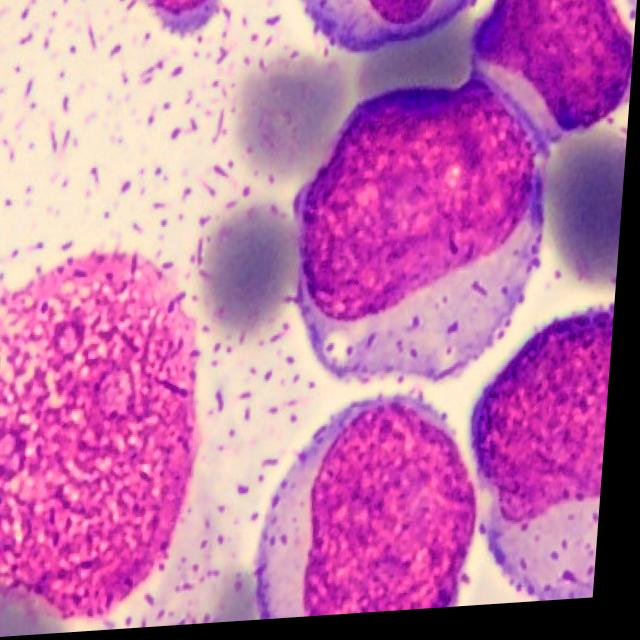Mieloblasto: (300, 89, 548, 387), (263, 408, 486, 624), (474, 317, 620, 610), (473, 0, 635, 165)
Restos celulares: (0, 254, 205, 620)
